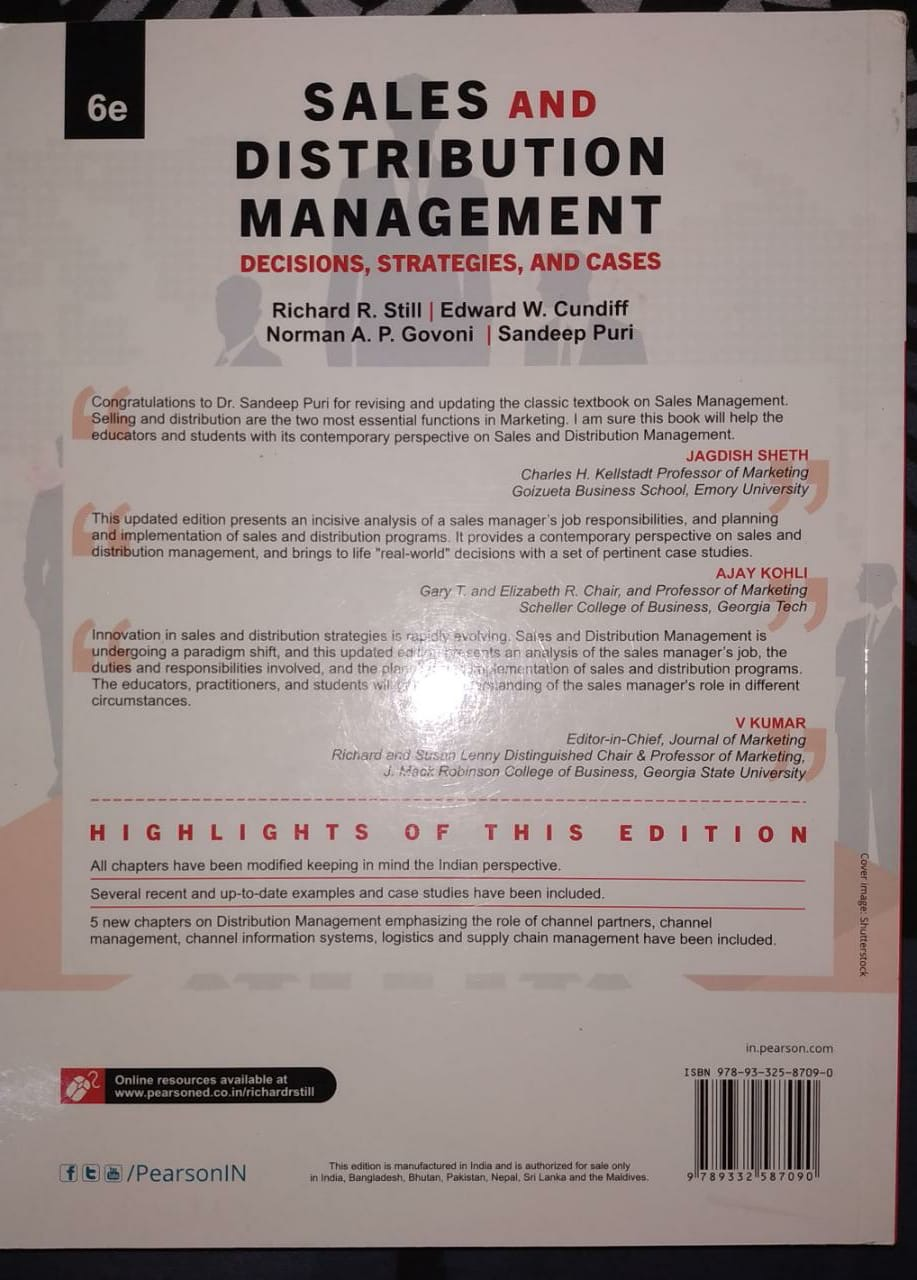barcode: (669, 1054, 849, 1207)
